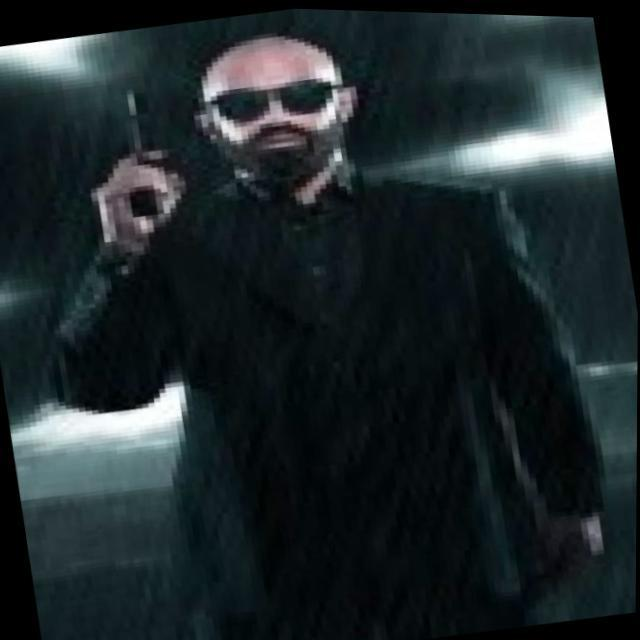weapon: (106, 83, 159, 218)
